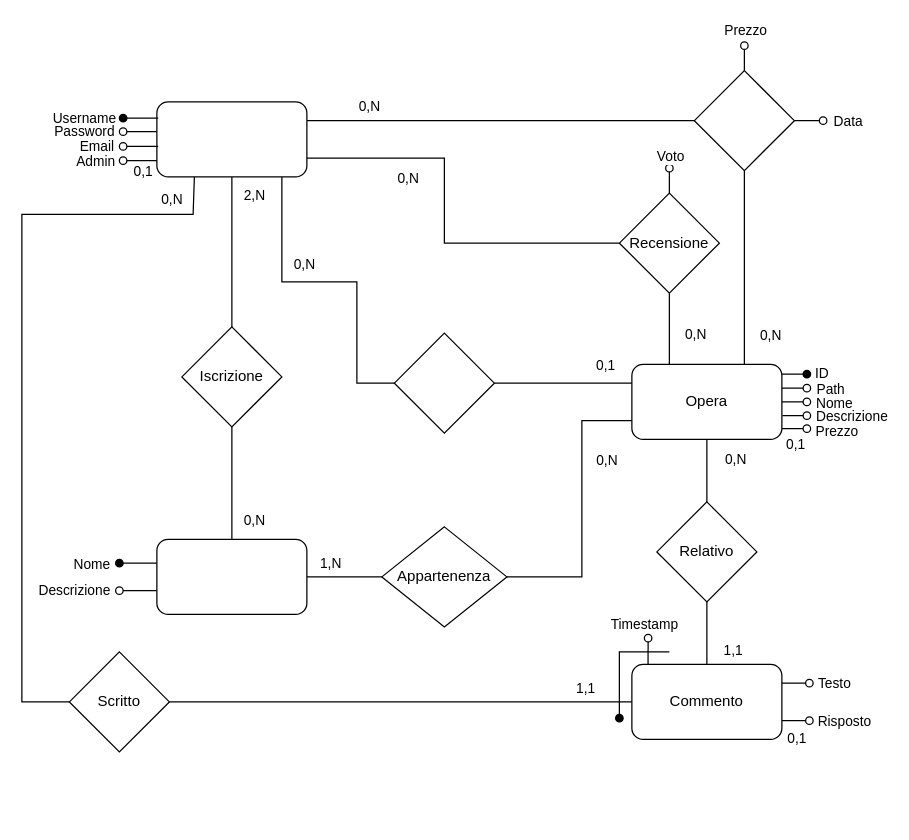
Some shapes in this 909 by 840 pixel diagram are drawn without their labels. Each missing label, with the box of its shape:
Acquisto: (693, 69, 794, 171)
Categoria: (156, 538, 307, 614)
Possesso: (393, 332, 494, 433)
Utente: (156, 101, 307, 177)
